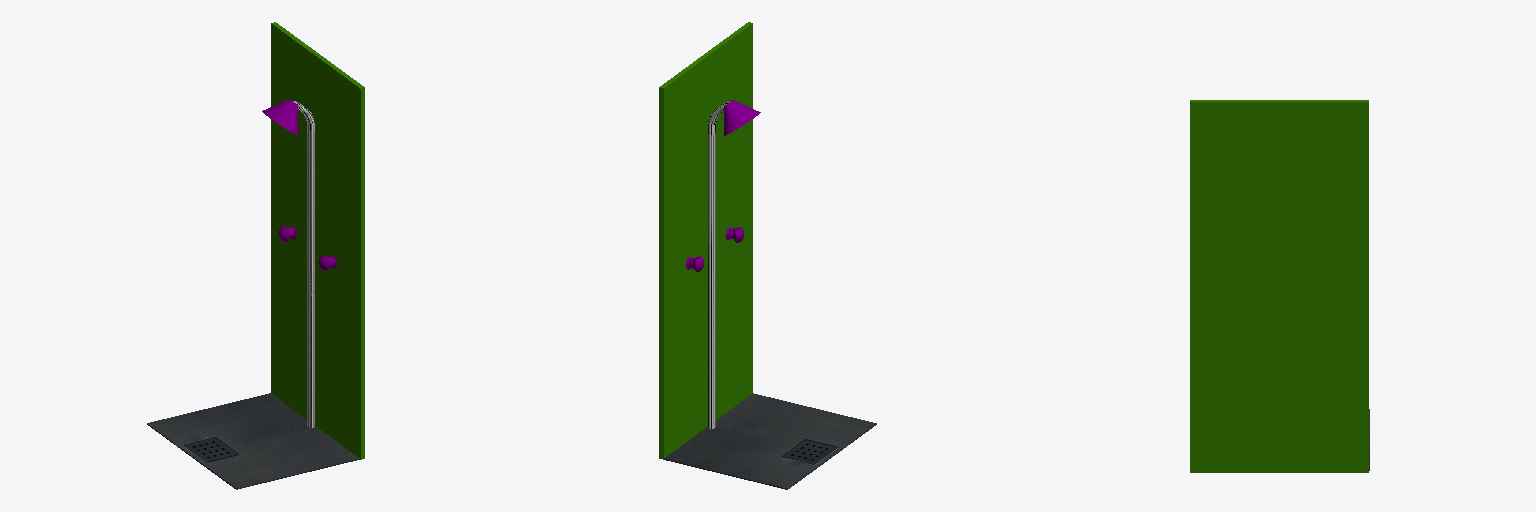
The picture shows the model from 3 angles: view 1: azimuth 30°, elevation 25°; view 2: azimuth 150°, elevation 25°; view 3: azimuth 270°, elevation 25°; orthographic projection.
Visible parts, largest first — view 1: Box004, Box001, Cylinder001, Cone001; view 2: Box004, Box001, Cylinder001, Cone001; view 3: Box004.
Part boxes in pixels (left/top/right/bottom): Box004: left=271, top=22, right=364, bottom=459; Box001: left=147, top=393, right=359, bottom=489; Cylinder001: left=307, top=130, right=314, bottom=427; Cone001: left=262, top=99, right=298, bottom=134; Box004: left=659, top=22, right=752, bottom=459; Box001: left=664, top=393, right=876, bottom=489; Cylinder001: left=708, top=134, right=715, bottom=428; Cone001: left=724, top=100, right=760, bottom=135; Box004: left=1190, top=100, right=1368, bottom=472.
Bounding box in the file's own units: 32.75 × 90.16 × 39.46.
Materials: 6 (3 with a texture image).